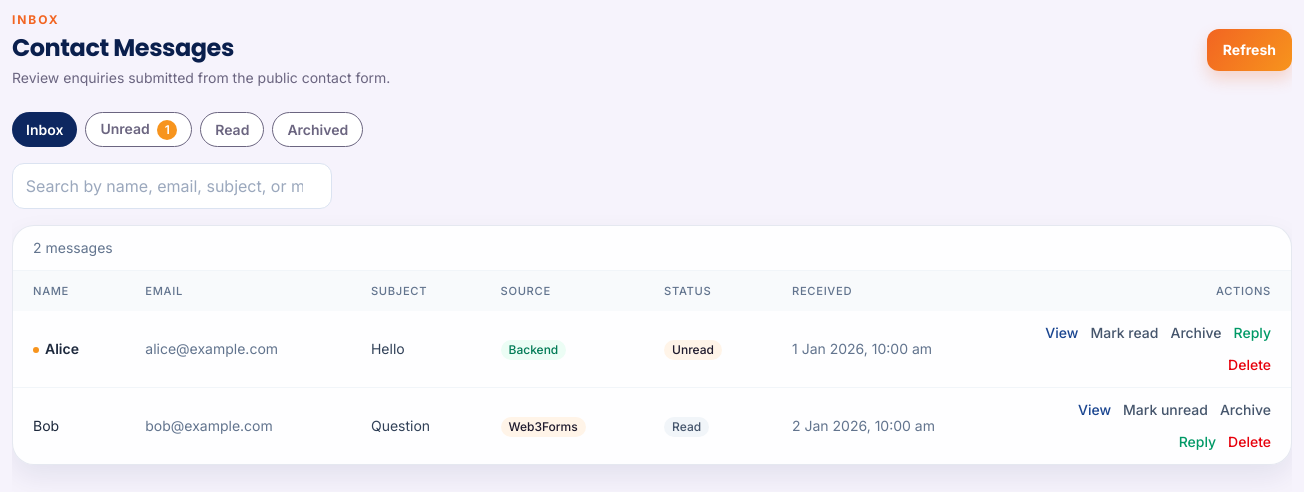
it: MessagesView › the Unread tab shows only unread messages
Click the tab "Unread 1". click: click(139, 130)
box: [85,112,192,147]
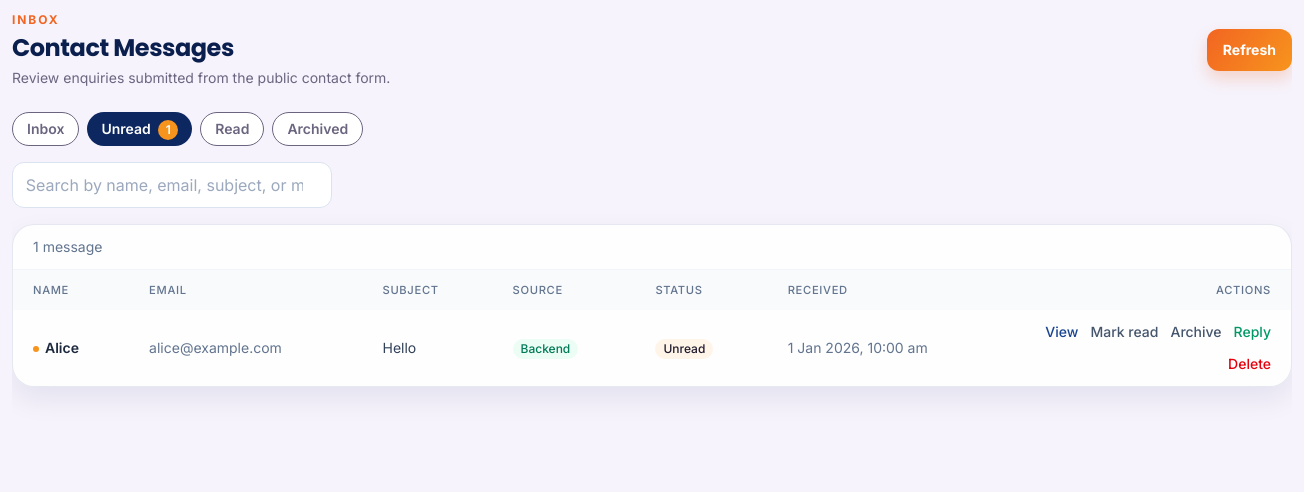
Expected: the text "Alice" is shown, [13,310,129,386]
Result: the text "Bob" is gone
